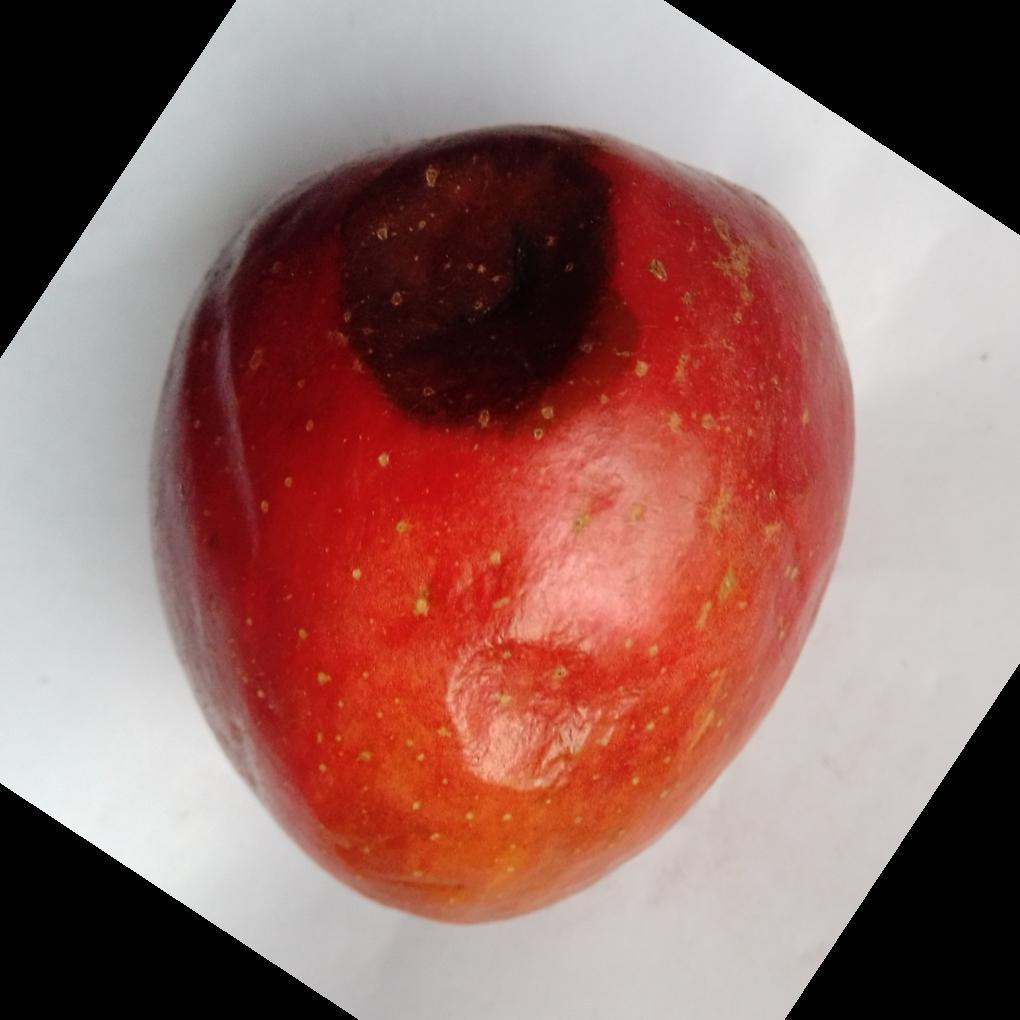FreshOrange: (146, 124, 858, 933)
